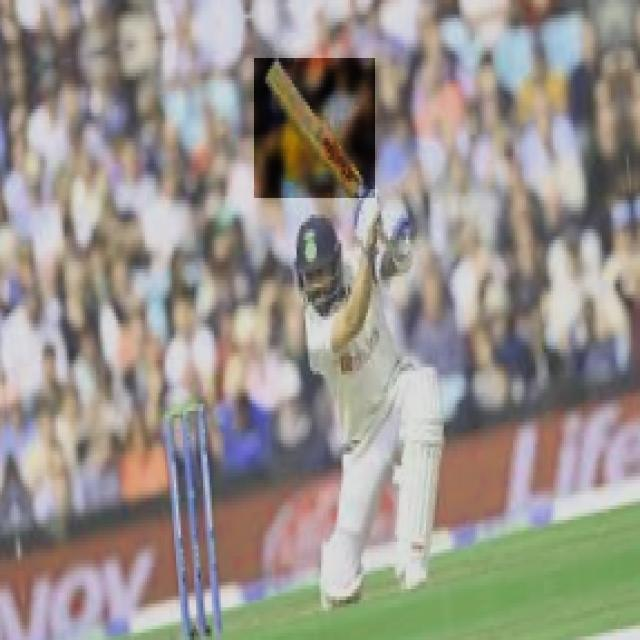bat: (255, 58, 375, 198)
toe: (254, 55, 284, 80)
